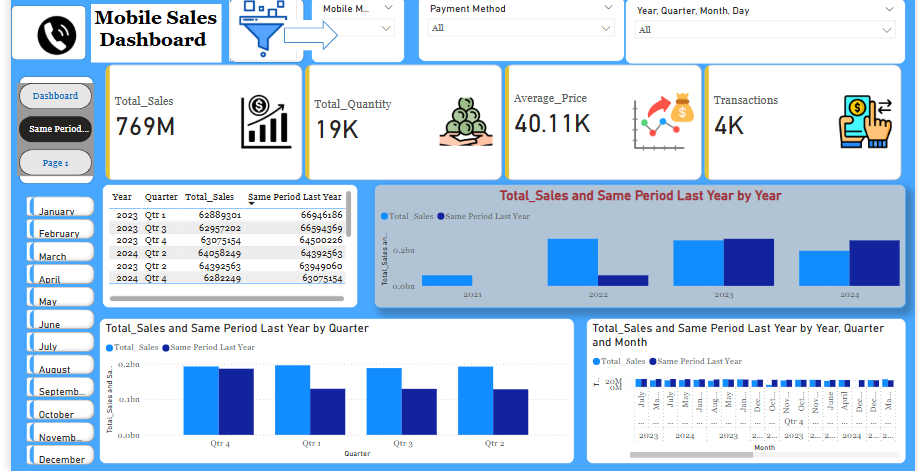

The page's visual inventory and layout, read from the dashboard file:
{"tool":"powerbi","page":{"name":"Same Period Last Year","canvas":[1280,720],"ordinal":2},"visuals":[{"type":"shape","box":[0,56.7,106.7,78.3],"z":0},{"type":"image","box":[25.2,55.4,79,89],"z":1000},{"type":"shape","box":[11.8,157.9,105.8,152.9],"z":2000},{"type":"cardVisual","fields":{"Data":["Mobile_Sales_Data.Total_Sales","Mobile_Sales_Data.Total_Quantity","Mobile_Sales_Data.Average_Price","Mobile_Sales_Data.Transactions"]},"box":[129.3,136.1,1138.9,174.7],"z":3000},{"type":"slicer","fields":{"Values":["Mobile_Sales_Data.Mobile Model"]},"box":[425,43.3,133.3,95],"z":4000},{"type":"slicer","fields":{"Values":["Mobile_Sales_Data.Payment Method"]},"box":[576.7,43.3,293.3,93.3],"z":5000},{"type":"slicer","fields":{"Values":["Custom_Calendar.Date.Variation.Date Hierarchy.Year","Custom_Calendar.Date.Variation.Date Hierarchy.Quarter","Custom_Calendar.Date.Variation.Date Hierarchy.Month","Custom_Calendar.Date.Variation.Date Hierarchy.Day"]},"box":[870.1,47,398.1,94.1],"z":6000},{"type":"shape","box":[308.3,46.7,106.7,91.7],"z":7000},{"type":"image","box":[308.3,43.3,96.7,93.3],"z":8000},{"type":"shape","box":[113.3,55,183.3,83.3],"z":10000},{"type":"textbox","box":[113.3,55,185,83.3],"z":11000},{"type":"advancedSlicerVisual","fields":{"Values":["Custom_Calendar.Date.Variation.Date Hierarchy.Month"]},"box":[11.8,323.6,102.5,396.4],"z":12000},{"type":"tableEx","fields":{"Values":["Custom_Calendar.Date.Variation.Date Hierarchy.Year","Custom_Calendar.Date.Variation.Date Hierarchy.Quarter","Mobile_Sales_Data.Total_Sales","Mobile_Sales_Data.Same Period Last Year"]},"box":[129.3,310.8,362.8,176.4],"z":13000},{"type":"advancedSlicerVisual","fields":{"Values":["Custom_Calendar.Date.Variation.Date Hierarchy.Month"]},"box":[21.8,323.6,102.5,396.4],"z":14000},{"type":"clusteredColumnChart","fields":{"Category":["Custom_Calendar.Date.Variation.Date Hierarchy.Year","Custom_Calendar.Date.Variation.Date Hierarchy.Quarter"],"Y":["Mobile_Sales_Data.Total_Sales","Mobile_Sales_Data.Same Period Last Year"]},"box":[514,310.8,754.2,176.4],"z":15000},{"type":"clusteredColumnChart","fields":{"Y":["Mobile_Sales_Data.Total_Sales","Mobile_Sales_Data.Same Period Last Year"],"Category":["Custom_Calendar.Date.Variation.Date Hierarchy.Year","Custom_Calendar.Date.Variation.Date Hierarchy.Quarter","Custom_Calendar.Date.Variation.Date Hierarchy.Month","Custom_Calendar.Date.Variation.Date Hierarchy.Day"]},"box":[814.7,500.6,453.5,206.6],"z":16000},{"type":"clusteredColumnChart","fields":{"Category":["Custom_Calendar.Date.Variation.Date Hierarchy.Year","Custom_Calendar.Date.Variation.Date Hierarchy.Quarter"],"Y":["Mobile_Sales_Data.Total_Sales","Mobile_Sales_Data.Same Period Last Year"]},"box":[124.3,500.6,673.6,206.6],"z":17000},{"type":"pageNavigator","box":[8.5,167.2,109.1,131.8],"z":18000}]}

Visuals, with their boxes on the page's 1280x720 design canvas (x1, y1, x2, y2). These are canvas units, not pixel positions in the 918x471 screenshot, which may show the page scaled, cropped or inside an application window:
shape: x1=0, y1=57, x2=107, y2=135
image: x1=25, y1=55, x2=104, y2=144
shape: x1=12, y1=158, x2=118, y2=311
cardVisual - Mobile_Sales_Data.Total_Sales x Mobile_Sales_Data.Total_Quantity: x1=129, y1=136, x2=1268, y2=311
slicer - Mobile_Sales_Data.Mobile Model: x1=425, y1=43, x2=558, y2=138
slicer - Mobile_Sales_Data.Payment Method: x1=577, y1=43, x2=870, y2=137
slicer - Custom_Calendar.Date.Variation.Date Hierarchy.Year x Custom_Calendar.Date.Variation.Date Hierarchy.Quarter: x1=870, y1=47, x2=1268, y2=141
shape: x1=308, y1=47, x2=415, y2=138
image: x1=308, y1=43, x2=405, y2=137
shape: x1=113, y1=55, x2=297, y2=138
textbox: x1=113, y1=55, x2=298, y2=138
advancedSlicerVisual - Custom_Calendar.Date.Variation.Date Hierarchy.Month: x1=12, y1=324, x2=114, y2=720
tableEx - Custom_Calendar.Date.Variation.Date Hierarchy.Year x Custom_Calendar.Date.Variation.Date Hierarchy.Quarter: x1=129, y1=311, x2=492, y2=487
advancedSlicerVisual - Custom_Calendar.Date.Variation.Date Hierarchy.Month: x1=22, y1=324, x2=124, y2=720
clusteredColumnChart - Custom_Calendar.Date.Variation.Date Hierarchy.Year x Custom_Calendar.Date.Variation.Date Hierarchy.Quarter: x1=514, y1=311, x2=1268, y2=487
clusteredColumnChart - Mobile_Sales_Data.Total_Sales x Mobile_Sales_Data.Same Period Last Year: x1=815, y1=501, x2=1268, y2=707
clusteredColumnChart - Custom_Calendar.Date.Variation.Date Hierarchy.Year x Custom_Calendar.Date.Variation.Date Hierarchy.Quarter: x1=124, y1=501, x2=798, y2=707
pageNavigator: x1=8, y1=167, x2=118, y2=299
